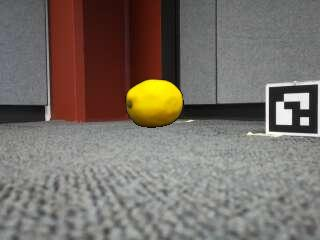lemon: (128, 79, 183, 127)
